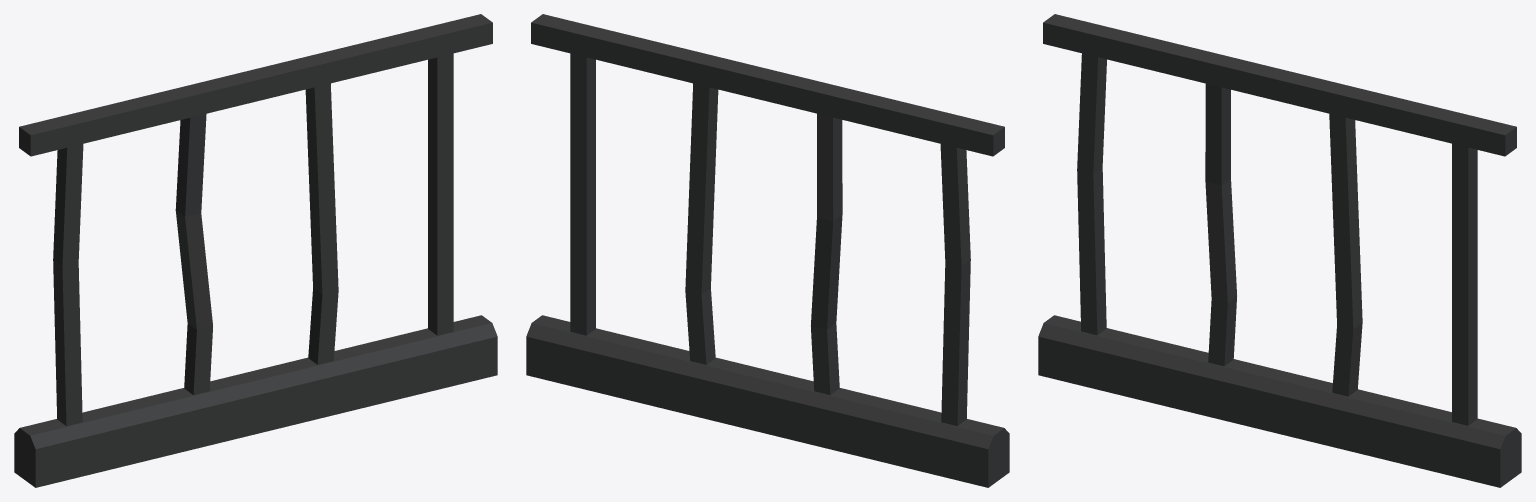
The model's file is SM_Bldg_City_Apartment_Fence_03.fbx.
3 renders of one model, left to right at view 1: azimuth 30°, elevation 25°; view 2: azimuth 150°, elevation 25°; view 3: azimuth 330°, elevation 25°, orthographic.
Parts seen in each view (by area): view 1: SM_Bldg_City_Apartment_Fence_03; view 2: SM_Bldg_City_Apartment_Fence_03; view 3: SM_Bldg_City_Apartment_Fence_03.
Part boxes in pixels (x1,y1,x2,y2): SM_Bldg_City_Apartment_Fence_03: [14, 14, 497, 487]; SM_Bldg_City_Apartment_Fence_03: [526, 14, 1009, 487]; SM_Bldg_City_Apartment_Fence_03: [1038, 14, 1521, 487].
Size of the model in its own units: 100 by 72.2 by 8.
